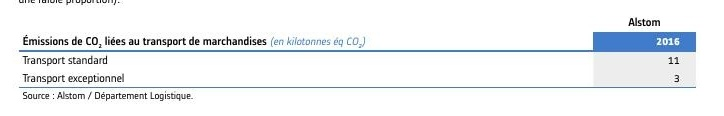table: (0, 0, 724, 116)
